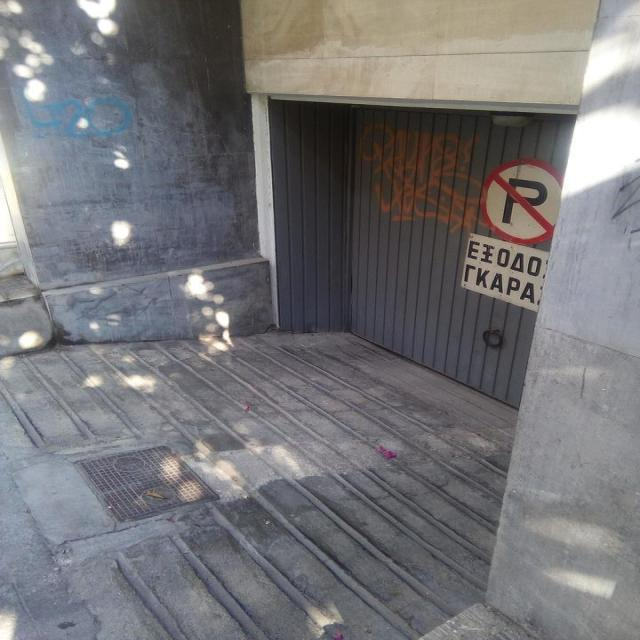nonspitting: (358, 120, 487, 232), (27, 95, 133, 138)
